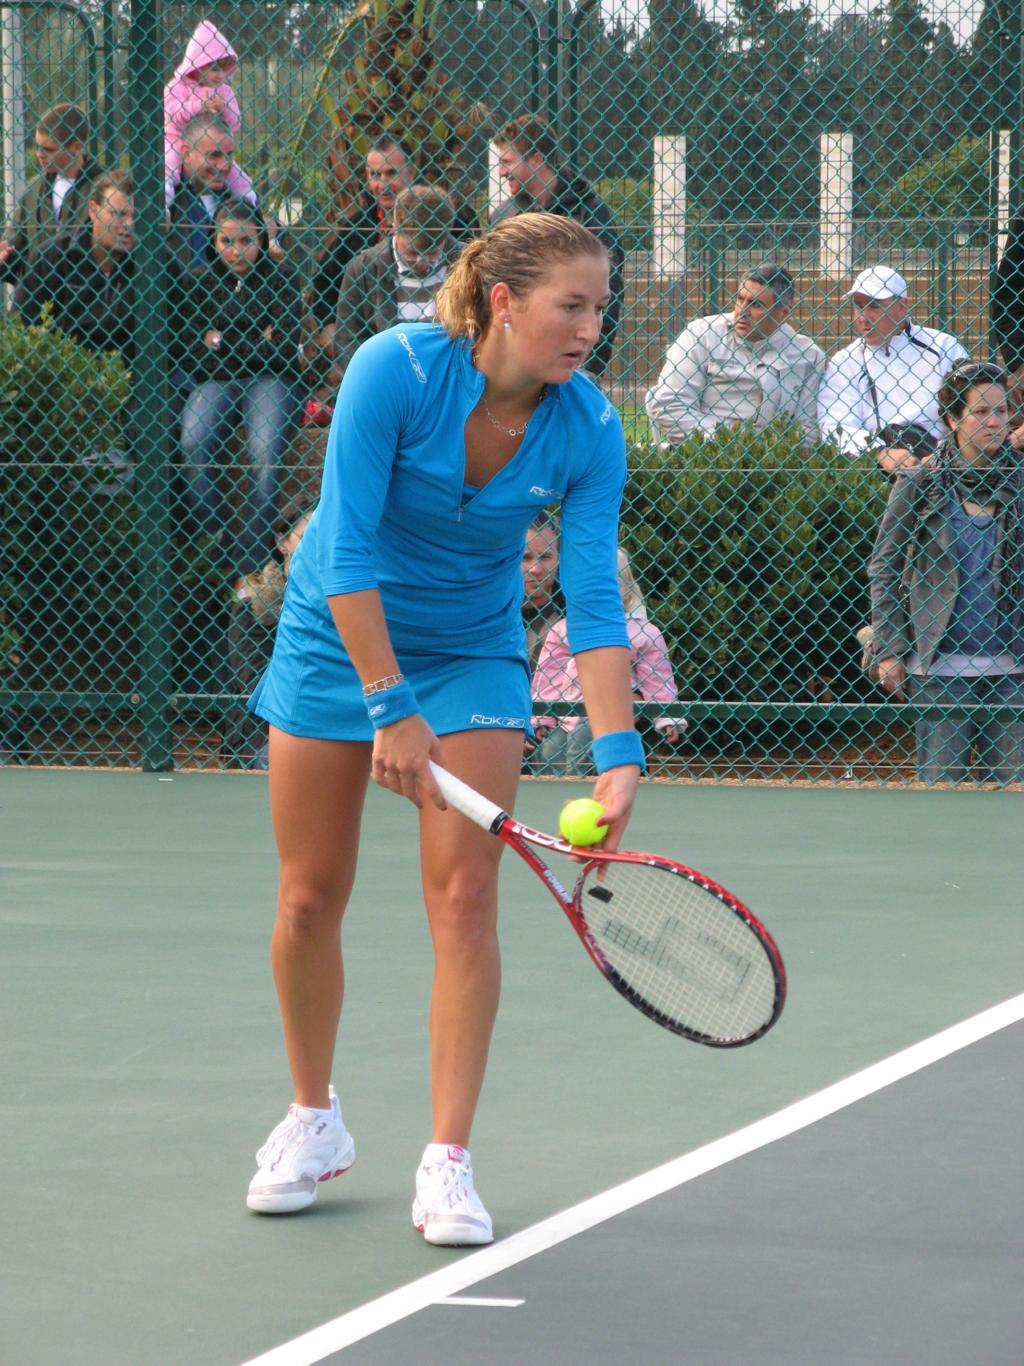face: (512, 256, 610, 382), (510, 521, 555, 599), (960, 382, 1006, 450), (366, 146, 414, 204), (497, 145, 548, 196), (191, 127, 232, 188), (99, 190, 141, 250), (853, 292, 897, 345), (734, 282, 776, 336), (216, 220, 258, 271), (398, 240, 442, 280), (36, 134, 64, 173), (199, 54, 229, 85)
